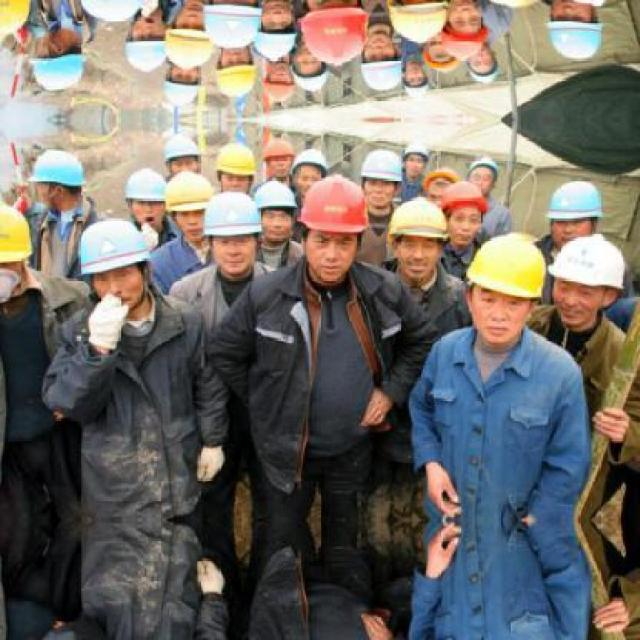Safety-Helmet: (464, 234, 548, 301), (297, 3, 376, 68), (548, 235, 629, 291), (297, 175, 369, 237), (74, 217, 149, 275), (200, 190, 263, 238), (156, 21, 212, 74), (540, 17, 607, 61), (199, 4, 264, 49), (385, 197, 449, 240), (388, 1, 452, 44), (543, 178, 605, 222), (26, 54, 94, 92), (29, 148, 86, 188), (208, 62, 262, 104), (0, 203, 35, 266), (161, 171, 214, 212), (359, 53, 404, 94), (120, 166, 168, 203), (118, 37, 166, 74), (214, 140, 257, 177), (358, 148, 404, 182), (251, 180, 298, 212), (442, 182, 488, 210), (160, 132, 200, 162), (400, 78, 440, 108), (289, 146, 329, 171), (400, 137, 432, 161), (262, 136, 296, 158), (466, 154, 502, 172)
